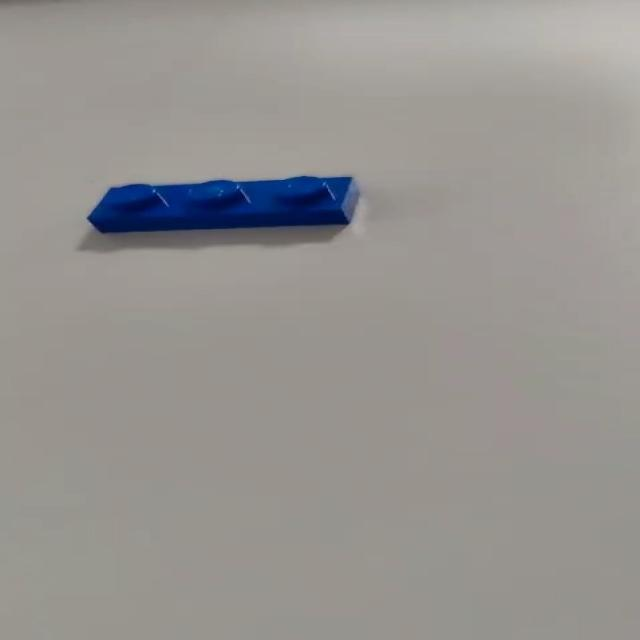C3x1x0: (94, 172, 363, 239)
